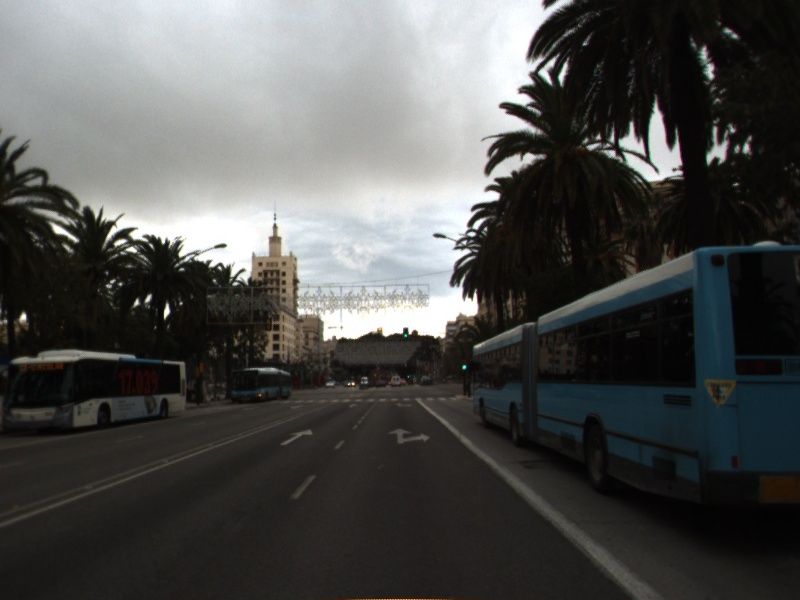STRAIGHT: (278, 427, 315, 447)
STRAIGHT_RIGHT: (386, 426, 432, 446)
